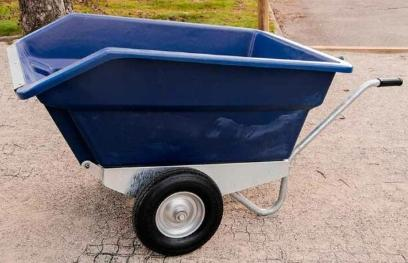ARROSOIR: (4, 9, 405, 261)
